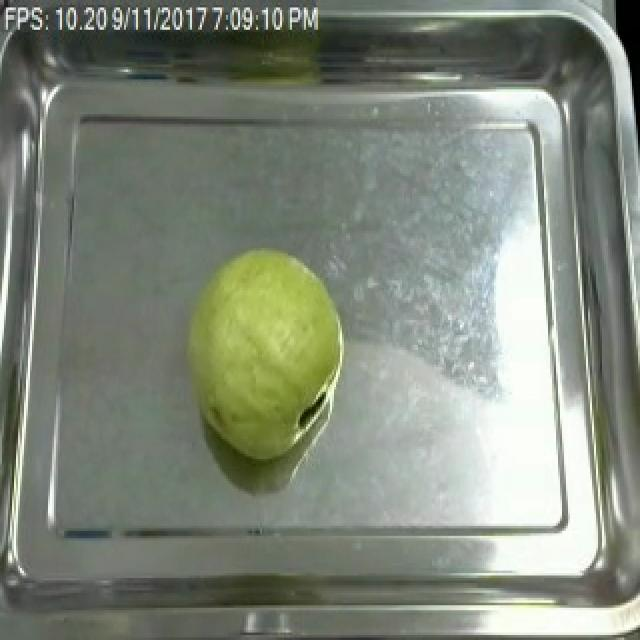Fruit: (174, 238, 354, 466)
